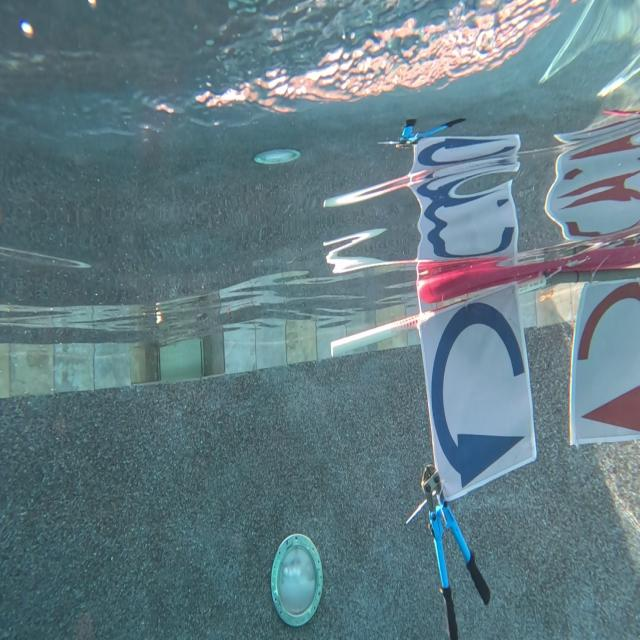blue_side: (426, 304, 532, 480)
red_side: (575, 285, 640, 432)
